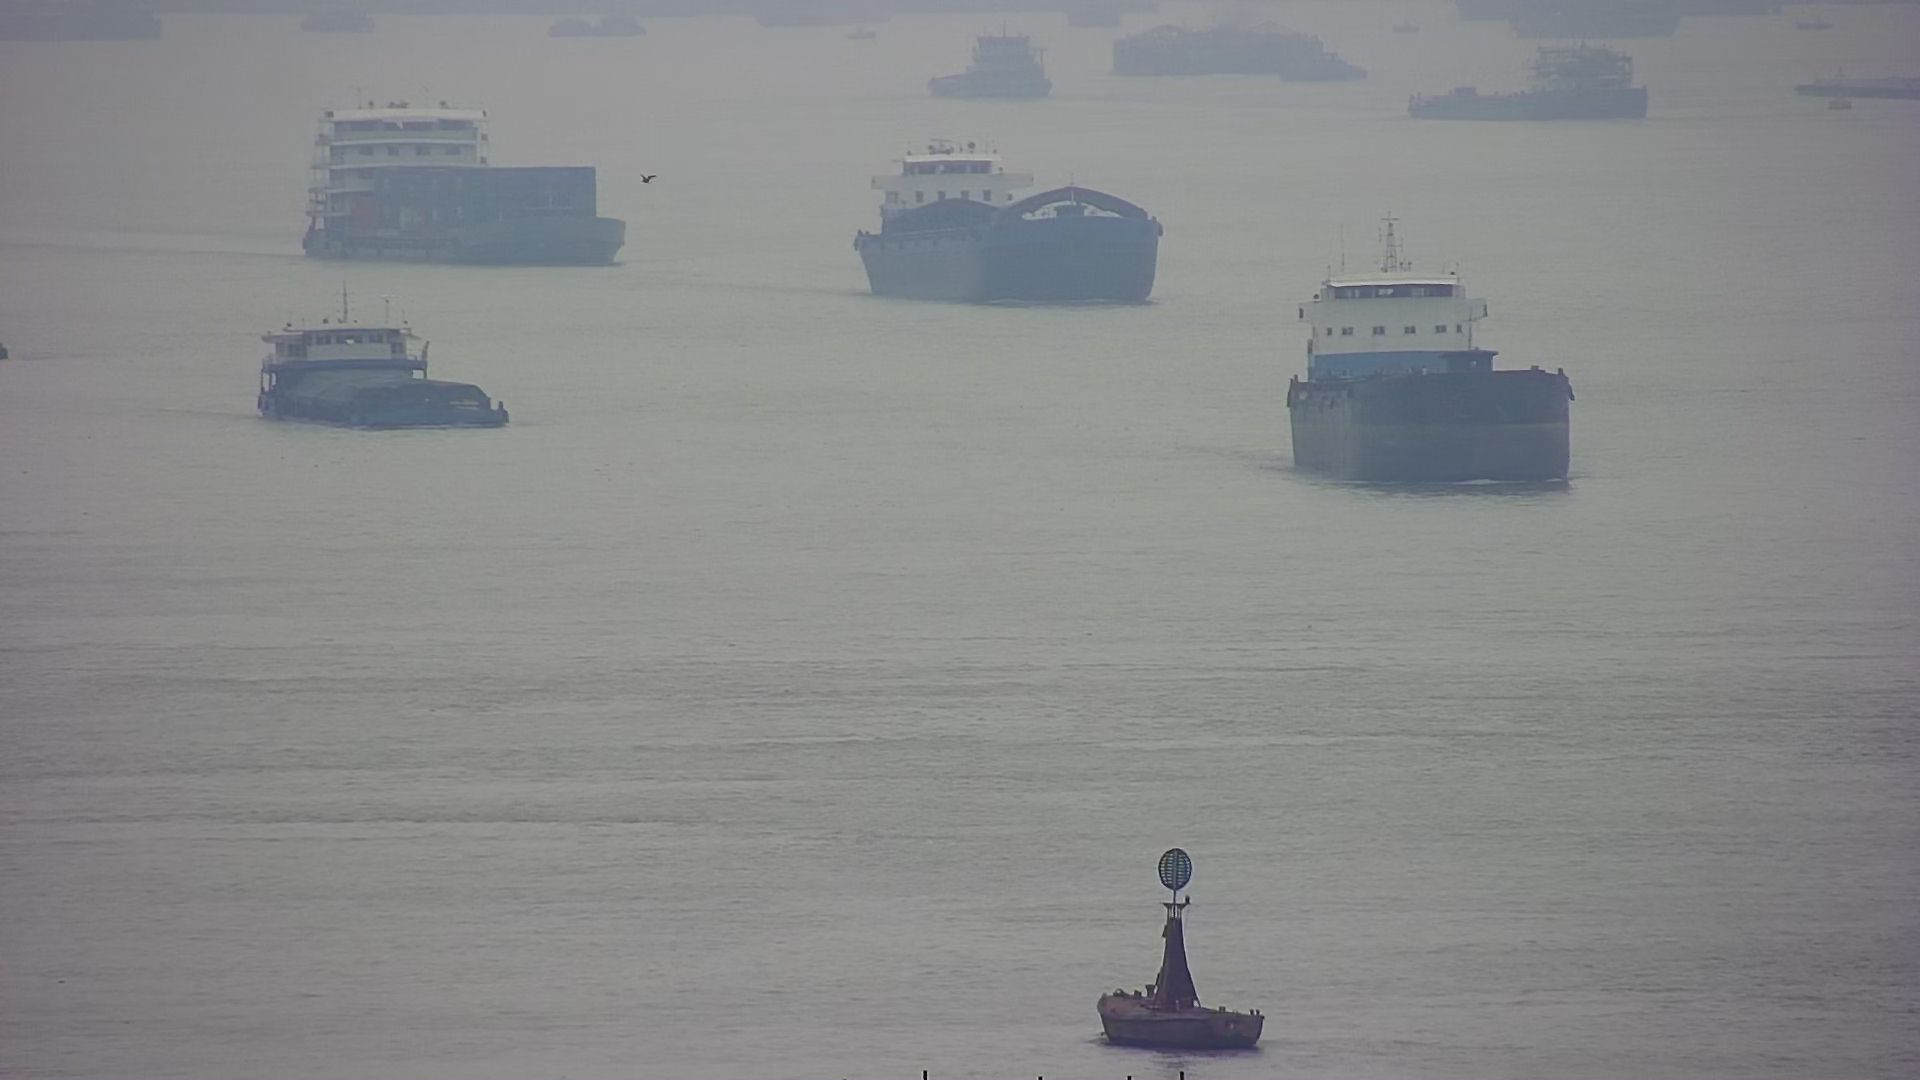boat: (1104, 840, 1267, 1054)
ship: (1284, 225, 1572, 487), (832, 133, 1167, 309), (301, 91, 626, 261), (251, 309, 513, 429)
